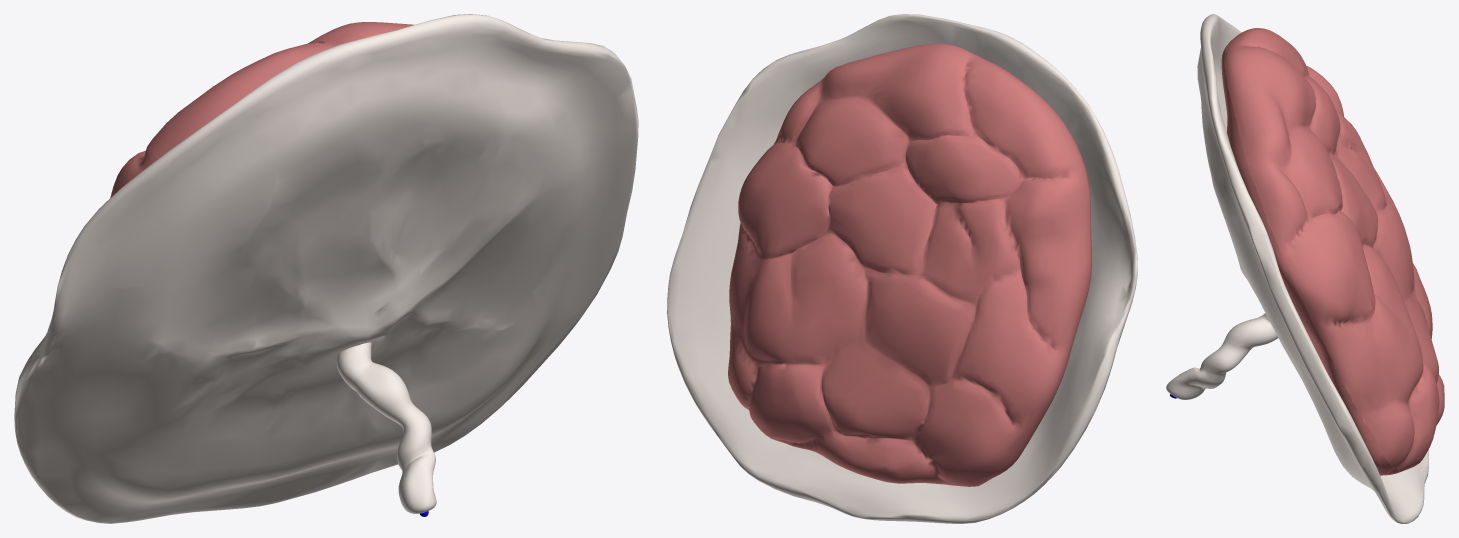
File: vh_f_placenta-40.glb
3 views of the same model, side by side, from view 1: azimuth 30°, elevation 25°; view 2: azimuth 150°, elevation 25°; view 3: azimuth 270°, elevation 25° (orthographic). The views are drawn at different scales.
Visible parts, largest first — view 1: VH_F_amnion, VH_F_basal_plate, VH_F_umbilical_cord; view 2: VH_F_basal_plate, VH_F_amnion; view 3: VH_F_basal_plate, VH_F_amnion, VH_F_chorionic_plate, VH_F_umbilical_cord.
Boxes of the visible parts, box(x1,y1,x2,y2) form: VH_F_amnion: box(14, 14, 638, 523); VH_F_basal_plate: box(110, 22, 414, 197); VH_F_umbilical_cord: box(336, 342, 436, 513); VH_F_basal_plate: box(728, 43, 1090, 486); VH_F_amnion: box(667, 14, 1137, 523); VH_F_basal_plate: box(1224, 28, 1444, 471); VH_F_amnion: box(1197, 14, 1428, 523); VH_F_chorionic_plate: box(1221, 46, 1400, 475); VH_F_umbilical_cord: box(1166, 313, 1277, 399).
Size of the model in its own units: 0.2509 by 0.2305 by 0.1338.
